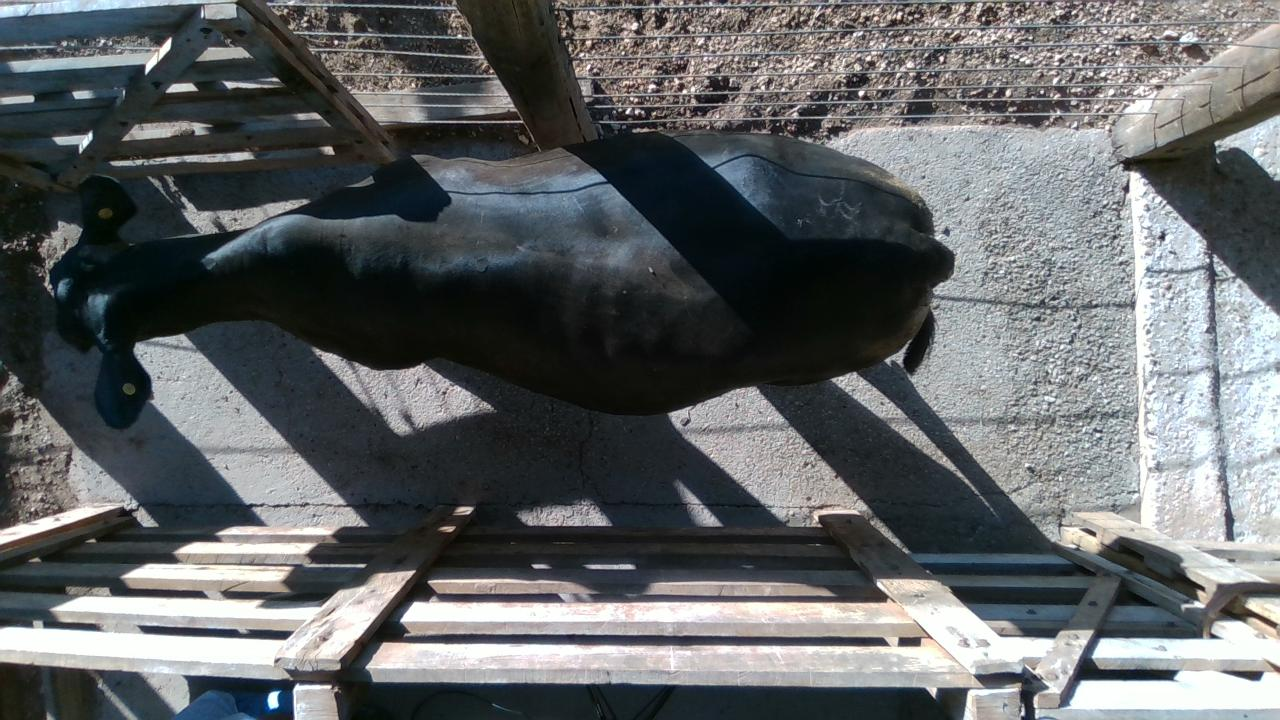cattle: (49, 127, 955, 429)
